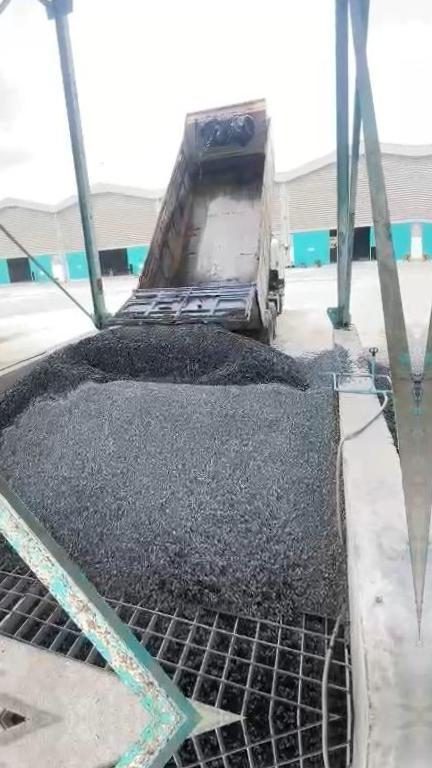gravel: (0, 328, 356, 619), (0, 504, 21, 569), (376, 361, 392, 392)
sand: (0, 338, 7, 380)
